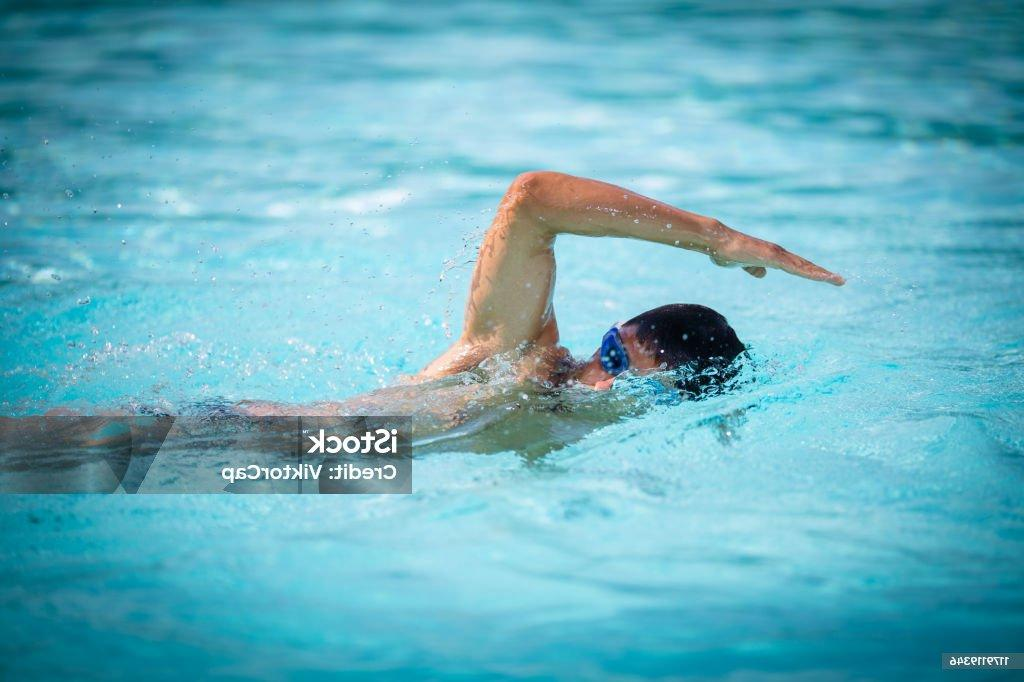Swimming: (146, 102, 892, 526)
